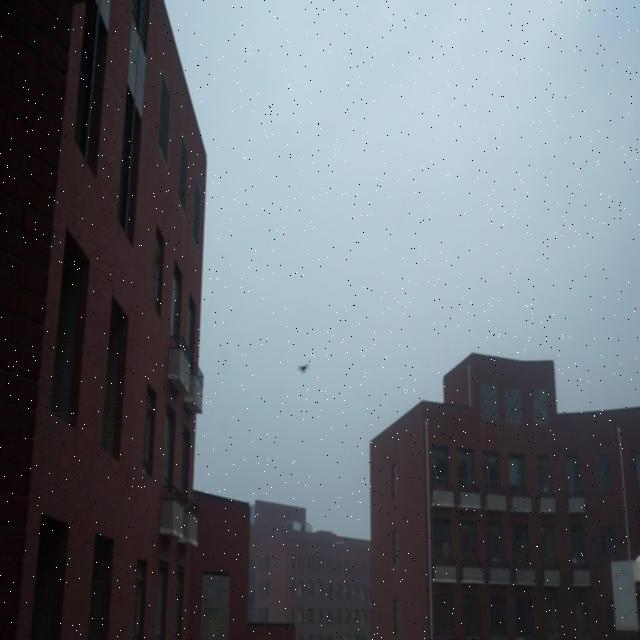UAV: (298, 363, 310, 375)
